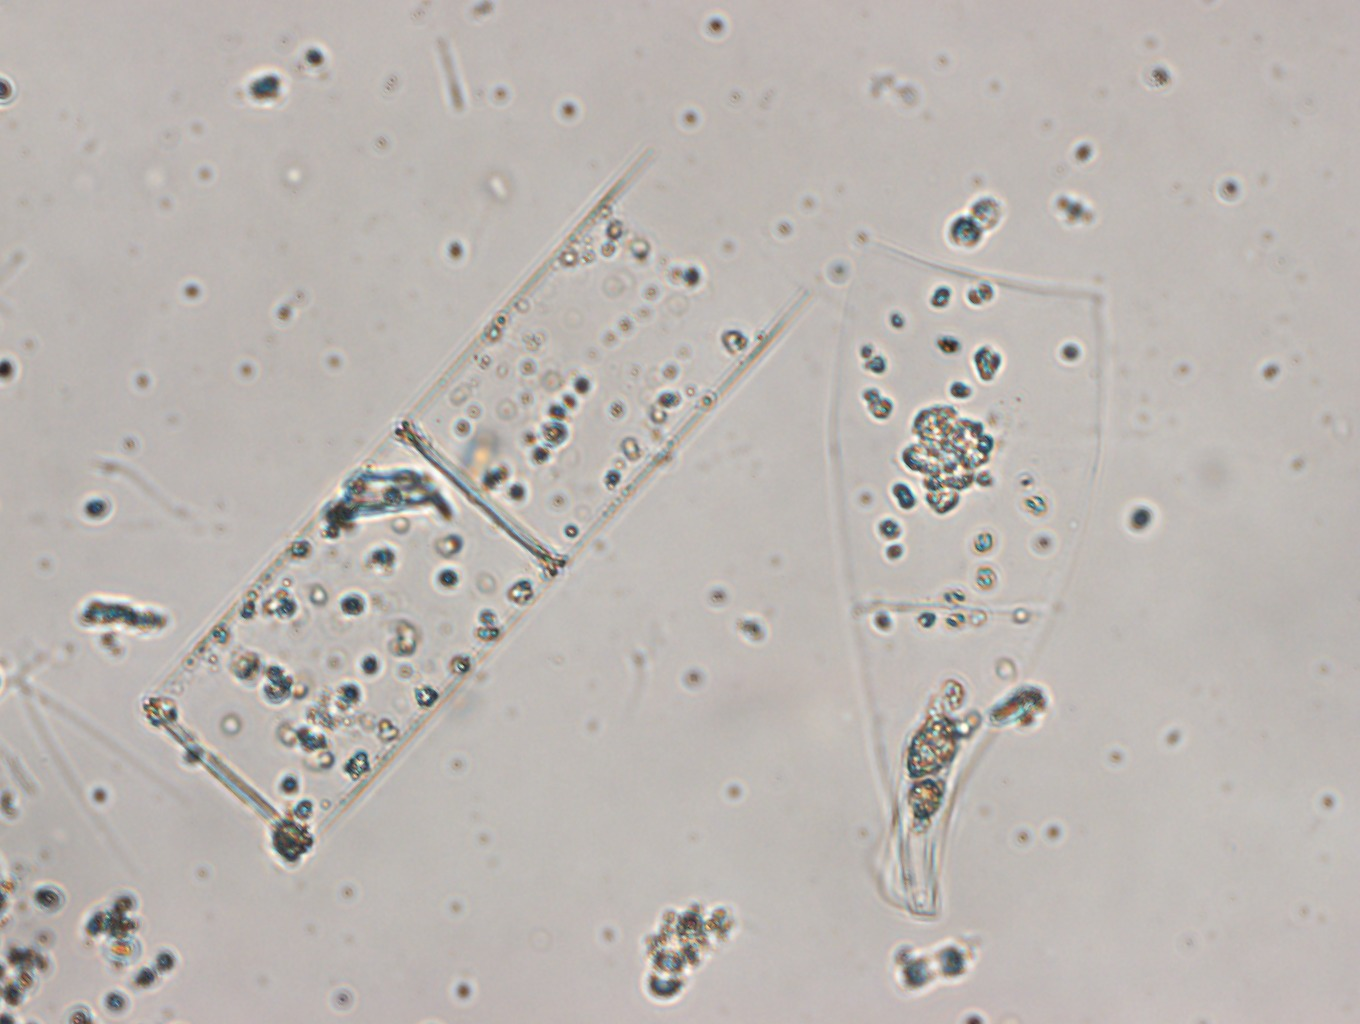guinardia flaccida: (137, 127, 799, 858)
helicotheca: (827, 234, 1123, 926)
